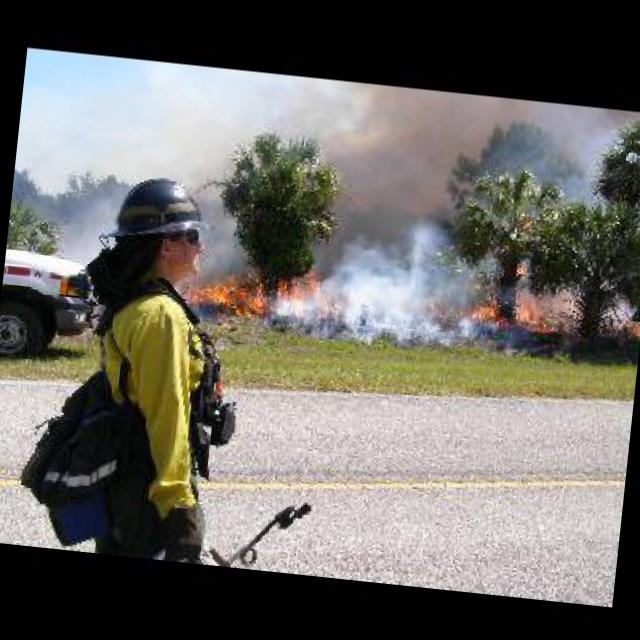fire: (187, 250, 270, 320), (508, 275, 576, 335), (463, 285, 502, 325)
smoke: (299, 208, 466, 351)
